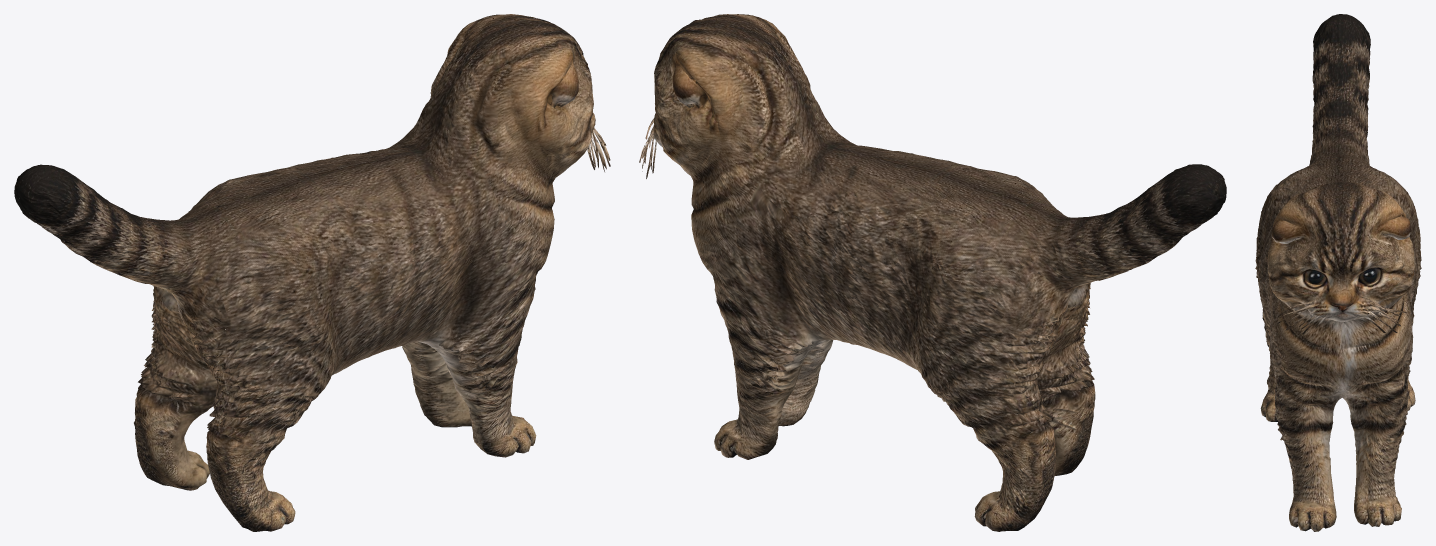
The model's file is PAYAKE.glb.
3 views of the same model, side by side, from view 1: azimuth 30°, elevation 25°; view 2: azimuth 150°, elevation 25°; view 3: azimuth 270°, elevation 25° (orthographic). The views are drawn at different scales.
Parts seen in each view (by area): view 1: tripo_node_a577ba71-2106-4b6a-bf4c-0cf9c07442a0; view 2: tripo_node_a577ba71-2106-4b6a-bf4c-0cf9c07442a0; view 3: tripo_node_a577ba71-2106-4b6a-bf4c-0cf9c07442a0.
Part boxes in pixels (box(x1,y1,x2,y2)): tripo_node_a577ba71-2106-4b6a-bf4c-0cf9c07442a0: box(14, 14, 610, 531); tripo_node_a577ba71-2106-4b6a-bf4c-0cf9c07442a0: box(639, 14, 1226, 531); tripo_node_a577ba71-2106-4b6a-bf4c-0cf9c07442a0: box(1255, 14, 1421, 531).
Bounding box in the file's own units: 1.47 × 0.9994 × 0.4366.
Materials: 1 (1 with a texture image).
